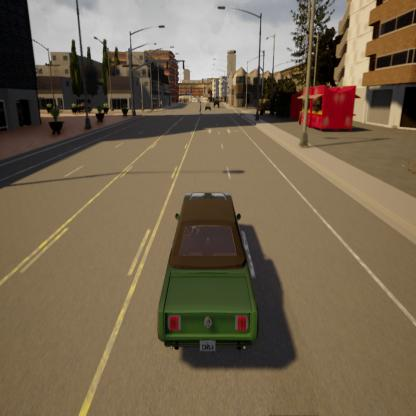Cars: (155, 176, 260, 358)
